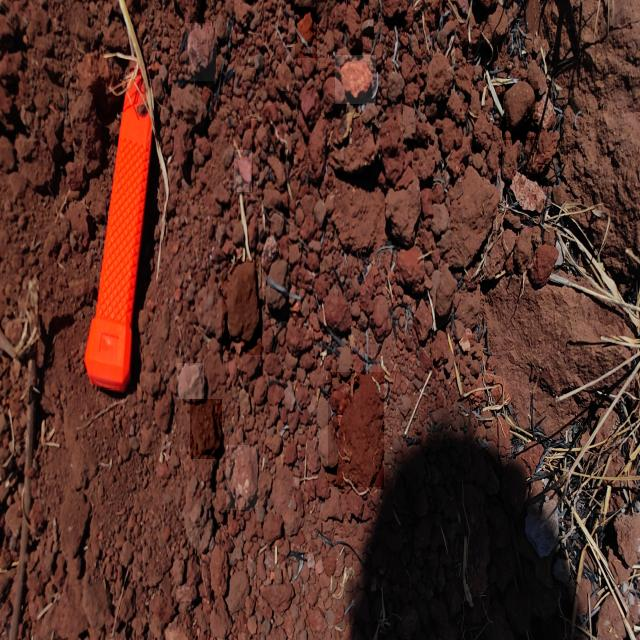Orange_hammer: (82, 80, 154, 390)
rock: (328, 372, 384, 487), (222, 260, 262, 356), (502, 81, 538, 140), (226, 445, 258, 510), (335, 55, 376, 104), (190, 399, 222, 459), (185, 24, 217, 82), (503, 80, 534, 138), (369, 292, 392, 347), (295, 7, 317, 58), (177, 363, 204, 399), (234, 150, 252, 192)
